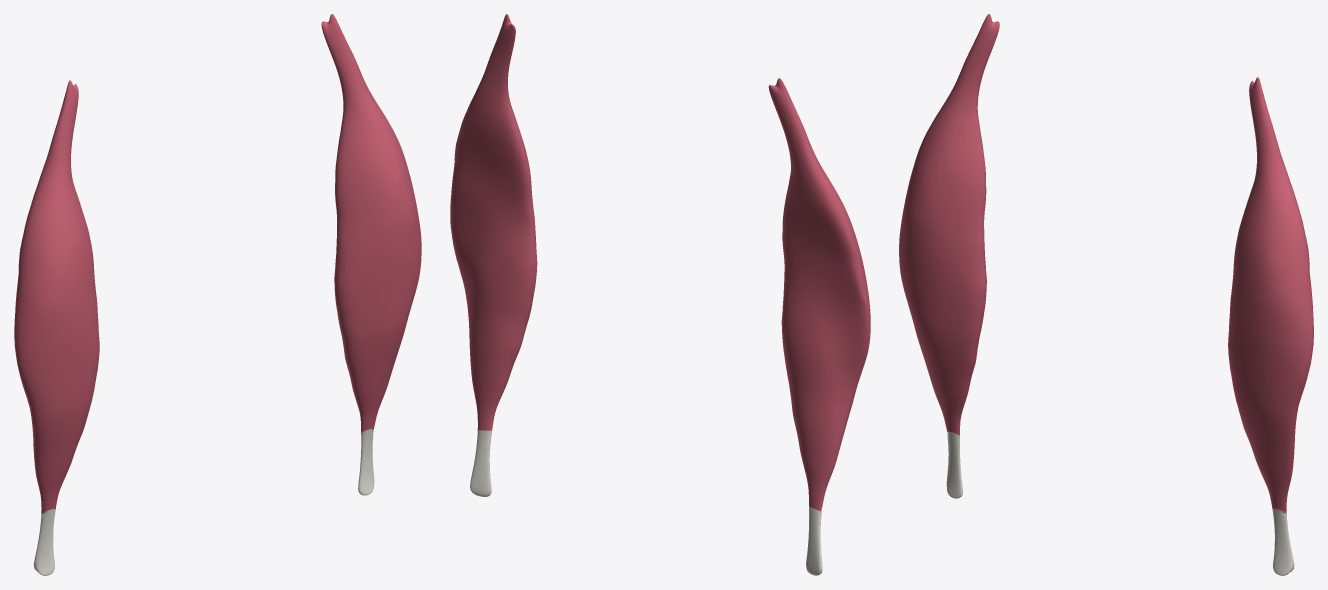
Rendered from female-muscular.glb.
3 views of the same model, side by side, from view 1: azimuth 30°, elevation 25°; view 2: azimuth 150°, elevation 25°; view 3: azimuth 330°, elevation 25° (orthographic). The views are drawn at different scales.
Parts seen in each view (by area): view 1: VH_F_rectus_femoris_L, VH_F_rectus_femoris_R, VH_F_tendon_of_quadriceps_femoris_R, VH_F_tendon_of_quadriceps_femoris_L; view 2: VH_F_rectus_femoris_R, VH_F_rectus_femoris_L, VH_F_tendon_of_quadriceps_femoris_L, VH_F_tendon_of_quadriceps_femoris_R; view 3: VH_F_rectus_femoris_R, VH_F_rectus_femoris_L, VH_F_tendon_of_quadriceps_femoris_L, VH_F_tendon_of_quadriceps_femoris_R.
Part boxes in pixels (x1=…): VH_F_rectus_femoris_L: x1=321, y1=14, x2=421, y2=432; VH_F_rectus_femoris_R: x1=14, y1=80, x2=99, y2=513; VH_F_tendon_of_quadriceps_femoris_R: x1=33, y1=509, x2=55, y2=575; VH_F_tendon_of_quadriceps_femoris_L: x1=358, y1=429, x2=374, y2=495; VH_F_rectus_femoris_R: x1=768, y1=78, x2=870, y2=511; VH_F_rectus_femoris_L: x1=450, y1=14, x2=537, y2=430; VH_F_tendon_of_quadriceps_femoris_L: x1=470, y1=430, x2=492, y2=496; VH_F_tendon_of_quadriceps_femoris_R: x1=806, y1=506, x2=822, y2=575; VH_F_rectus_femoris_R: x1=899, y1=14, x2=999, y2=435; VH_F_rectus_femoris_L: x1=1228, y1=77, x2=1313, y2=513; VH_F_tendon_of_quadriceps_femoris_L: x1=1272, y1=508, x2=1294, y2=575; VH_F_tendon_of_quadriceps_femoris_R: x1=946, y1=431, x2=962, y2=498.
Bounding box in the file's own units: 0.3555 × 0.4034 × 0.0508.
